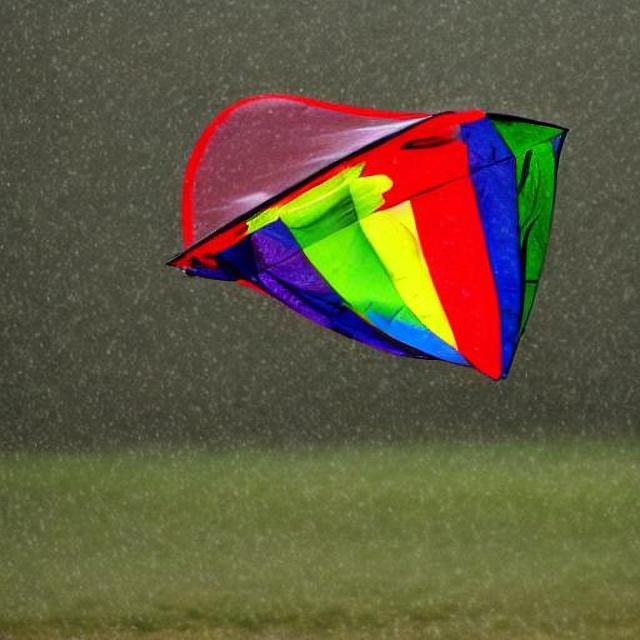floating object: (178, 99, 577, 366)
